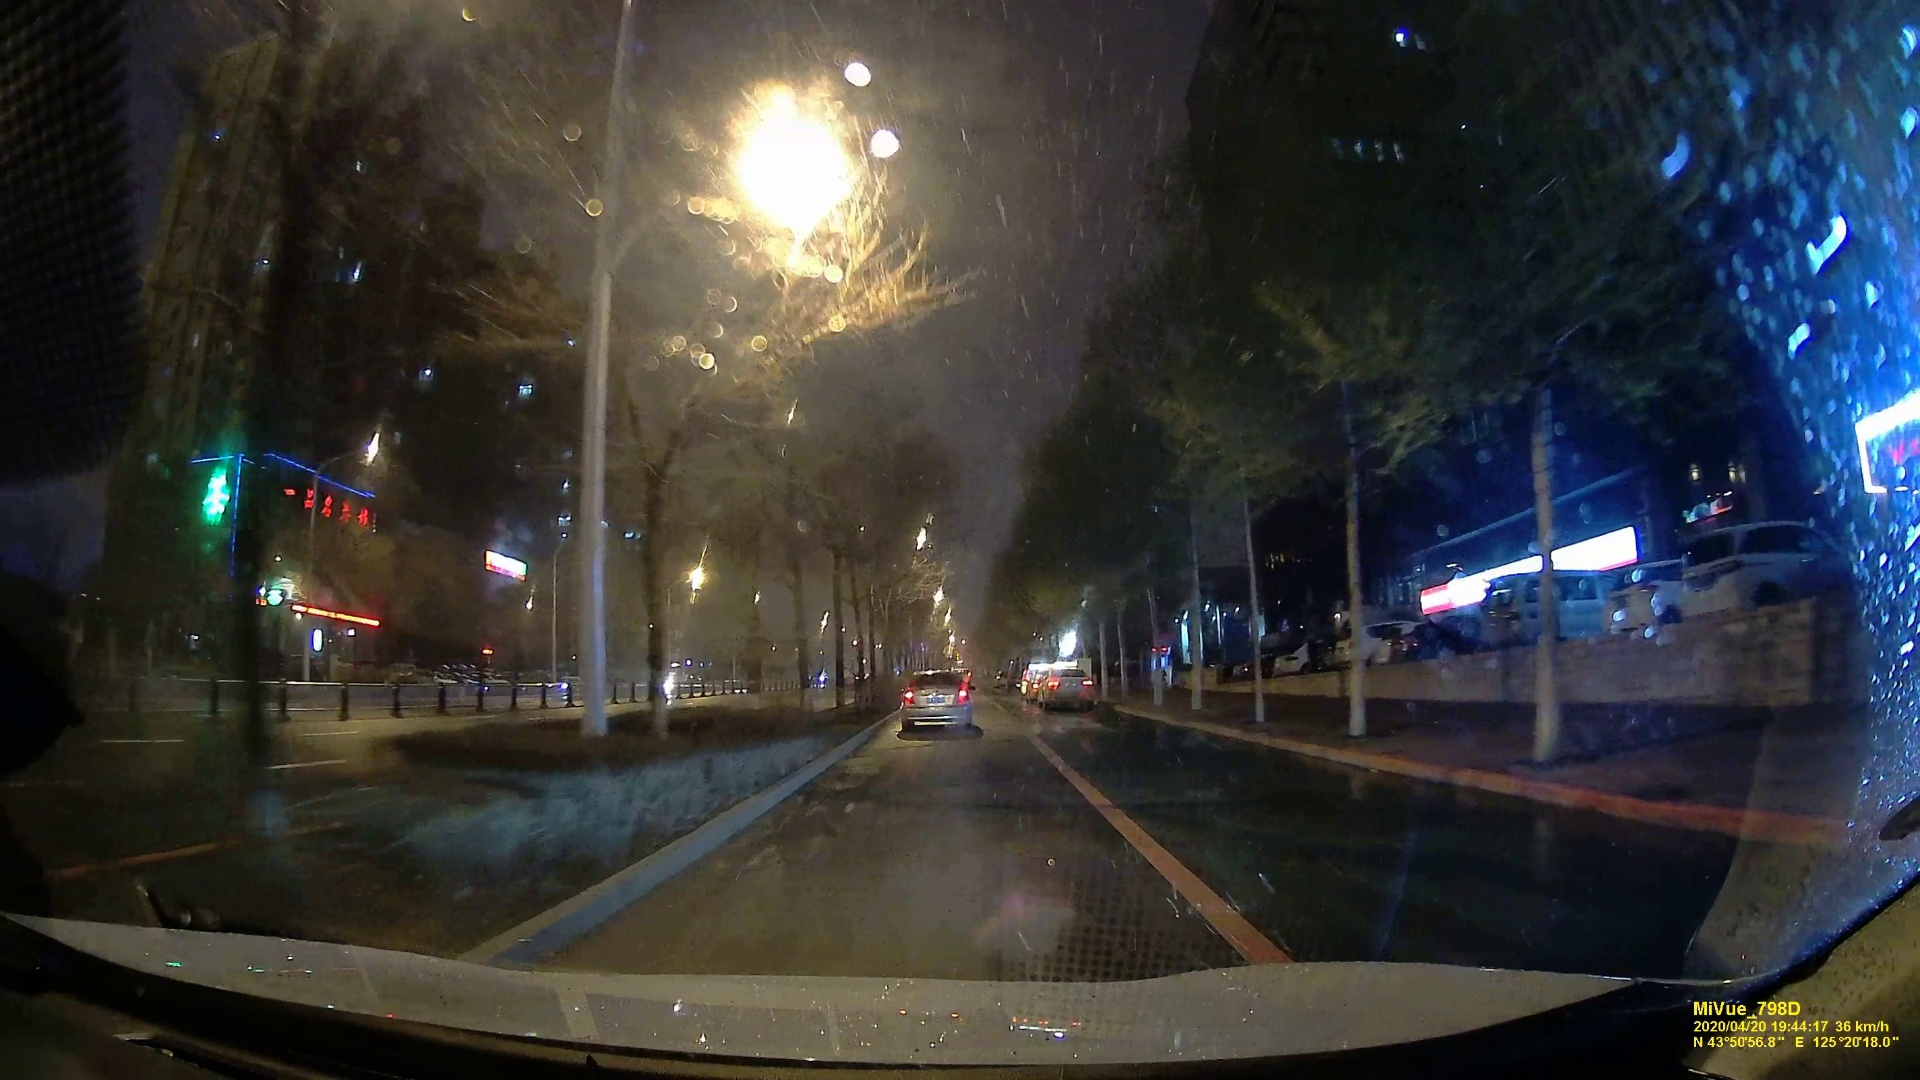vehicle: (899, 669, 972, 732), (1036, 669, 1093, 707)
